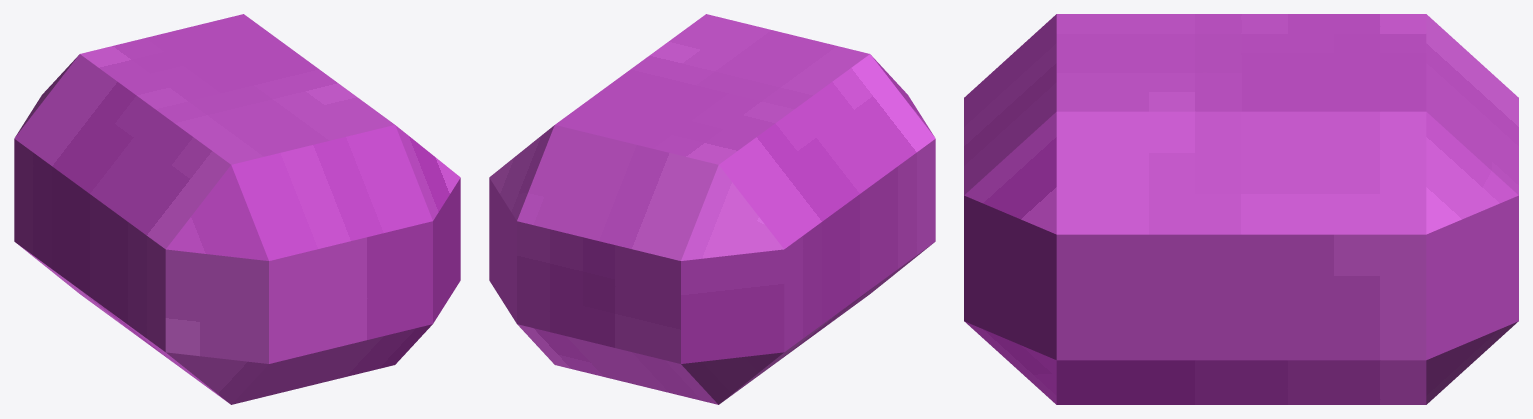
File: Player.fbx
3 views of the same model, side by side, from view 1: azimuth 30°, elevation 25°; view 2: azimuth 150°, elevation 25°; view 3: azimuth 270°, elevation 25° (orthographic). The views are drawn at different scales.
Visible parts, largest first — view 1: beveled_cuboid; view 2: beveled_cuboid; view 3: beveled_cuboid.
Part boxes in pixels (x1,y1,x2,y2): beveled_cuboid: (14, 14, 460, 404); beveled_cuboid: (489, 14, 935, 404); beveled_cuboid: (964, 14, 1518, 404).
Size of the model in its own units: 56.25 by 43.75 by 75.
Materials: 1 (1 with a texture image).
